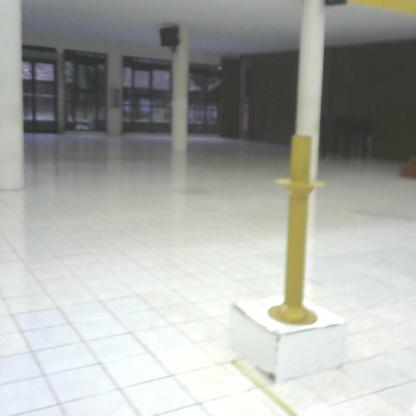pole: (265, 129, 331, 333)
